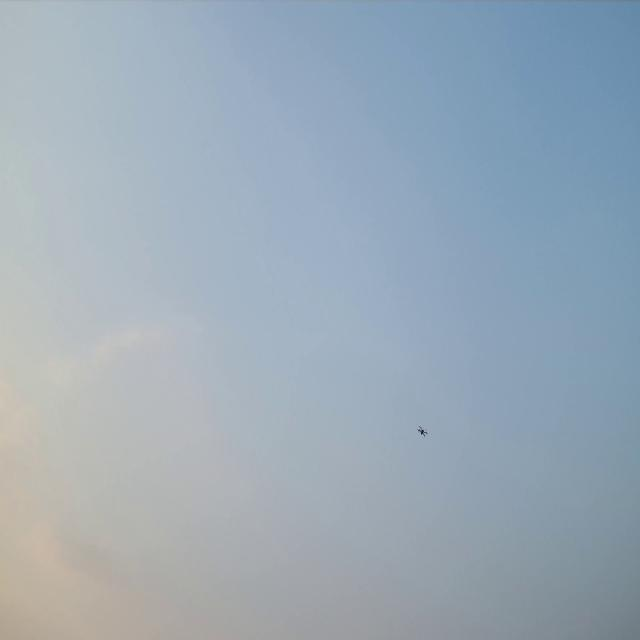UAV: (418, 426, 426, 435)
